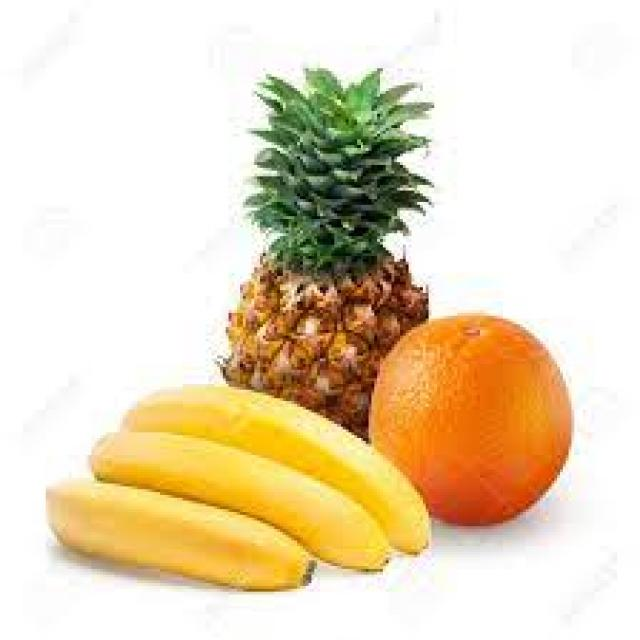banana: (40, 384, 454, 600)
orange: (366, 313, 577, 523)
pineapple: (223, 57, 431, 424)
